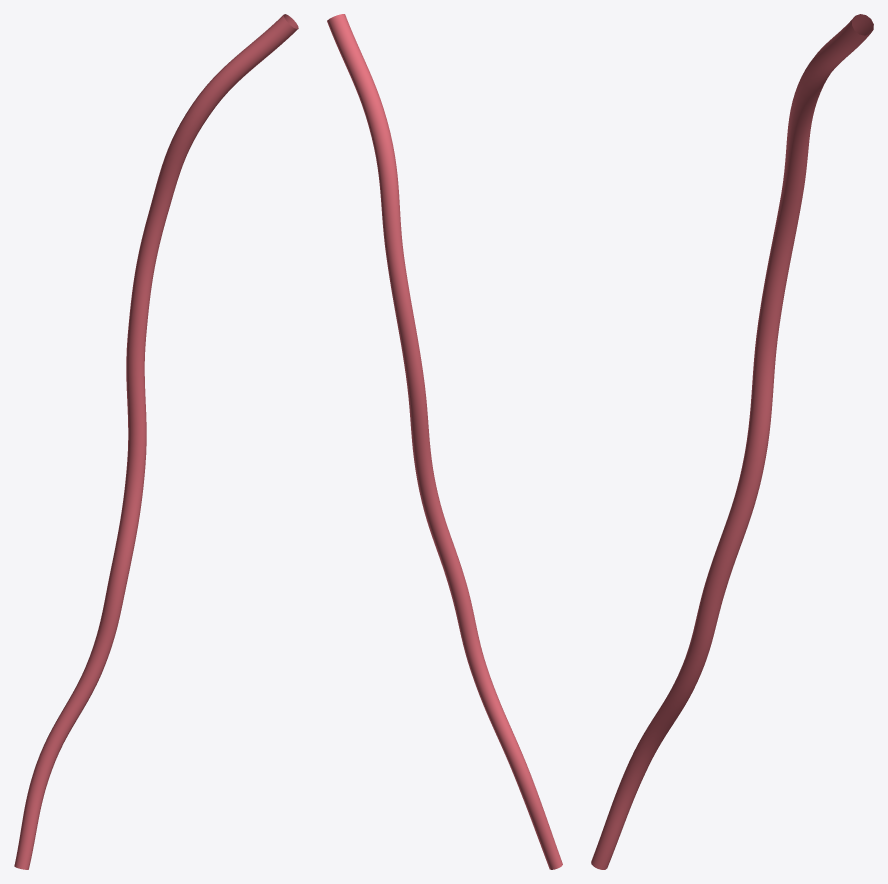
3 views of the same model, side by side, from view 1: azimuth 30°, elevation 25°; view 2: azimuth 150°, elevation 25°; view 3: azimuth 330°, elevation 25° (orthographic). The views are drawn at different scales.
Visible parts, largest first — view 1: ZA_189de546d9f8afa2; view 2: ZA_189de546d9f8afa2; view 3: ZA_189de546d9f8afa2.
Part boxes in pixels (x1,y1,x2,y2): ZA_189de546d9f8afa2: (14,14,298,869); ZA_189de546d9f8afa2: (327,14,562,869); ZA_189de546d9f8afa2: (591,14,873,869).
Size of the model in its own units: 0.0804 by 0.2378 by 0.0253.
